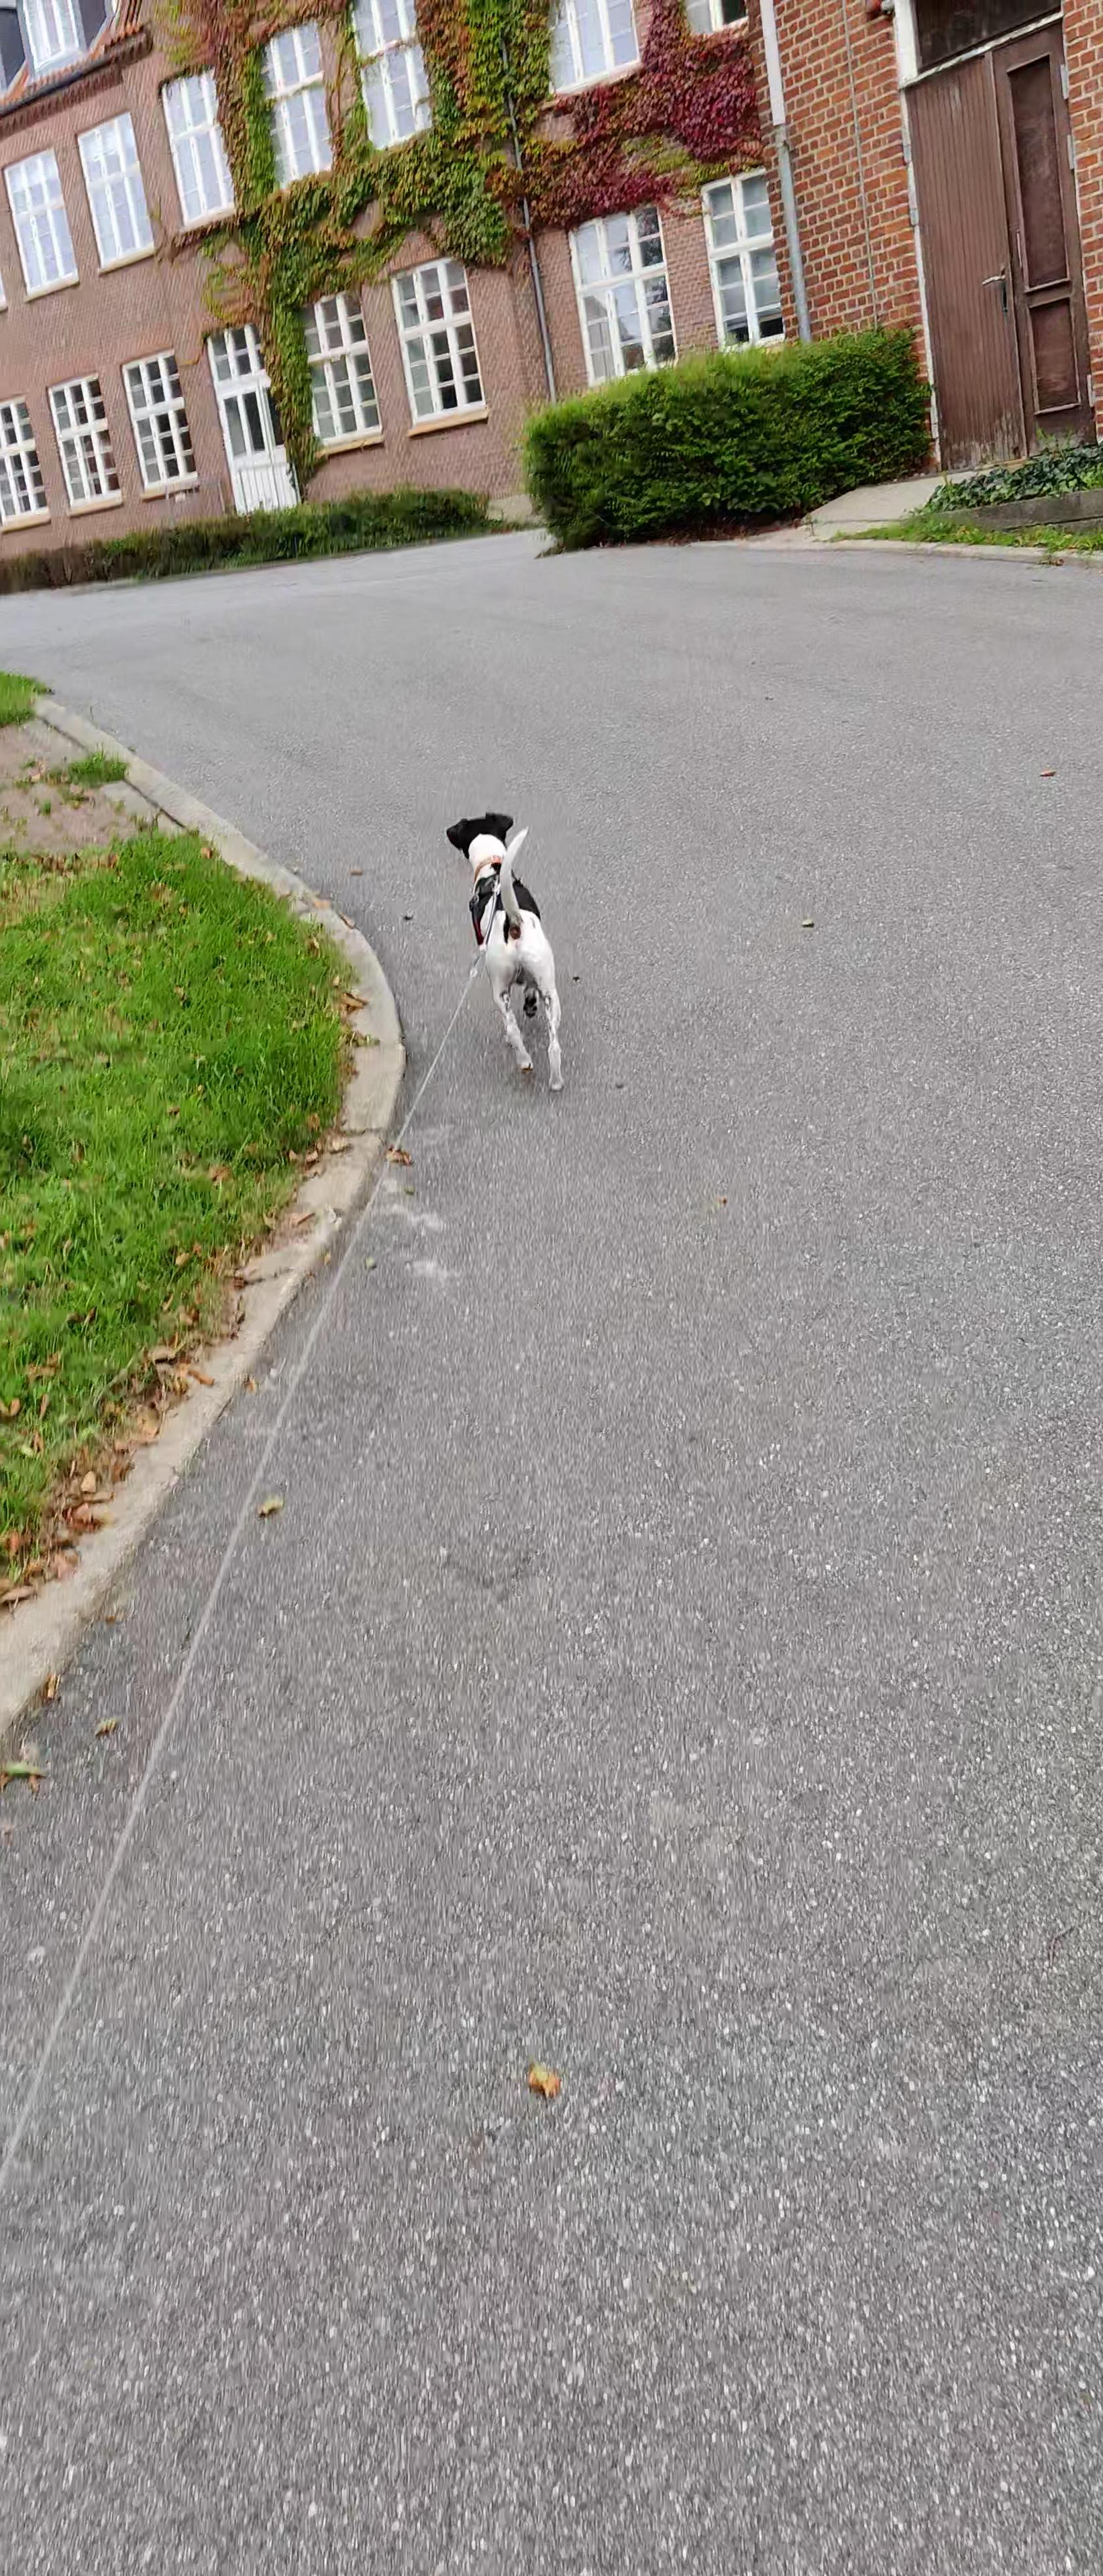Dog: (436, 805, 569, 1092)
